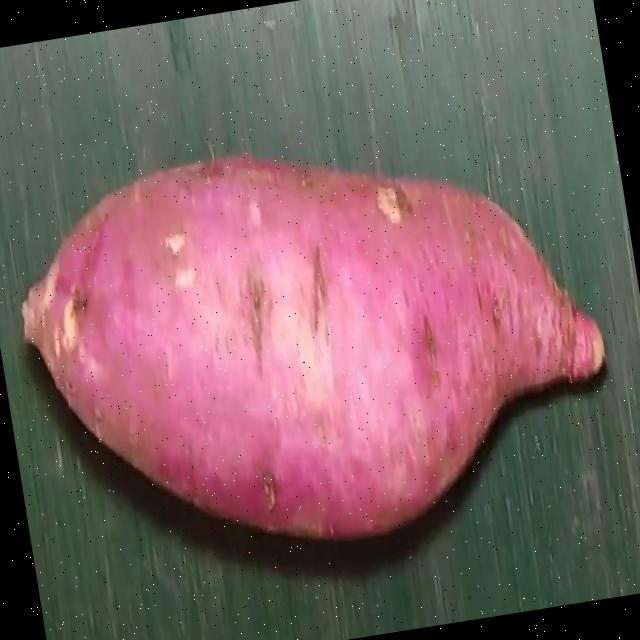Sweet Potato: (23, 153, 609, 532)
